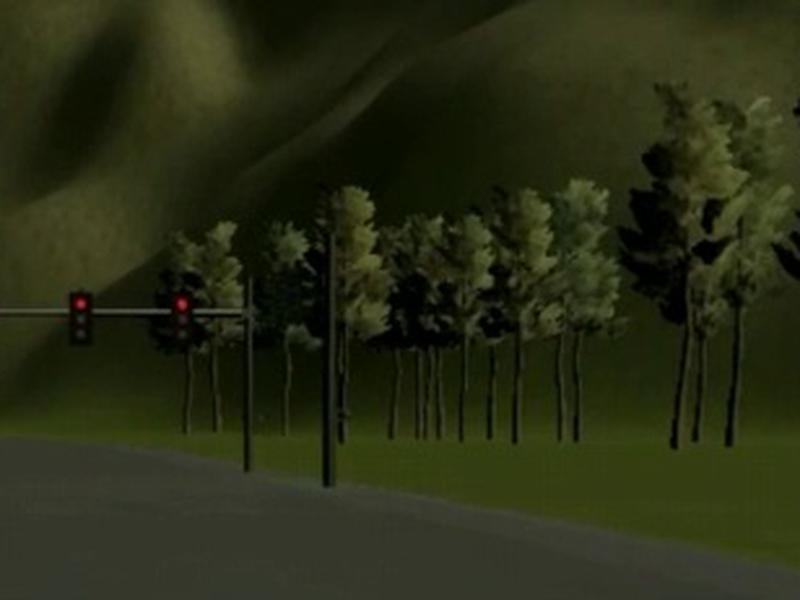Red: (170, 288, 197, 348), (71, 291, 93, 348)
